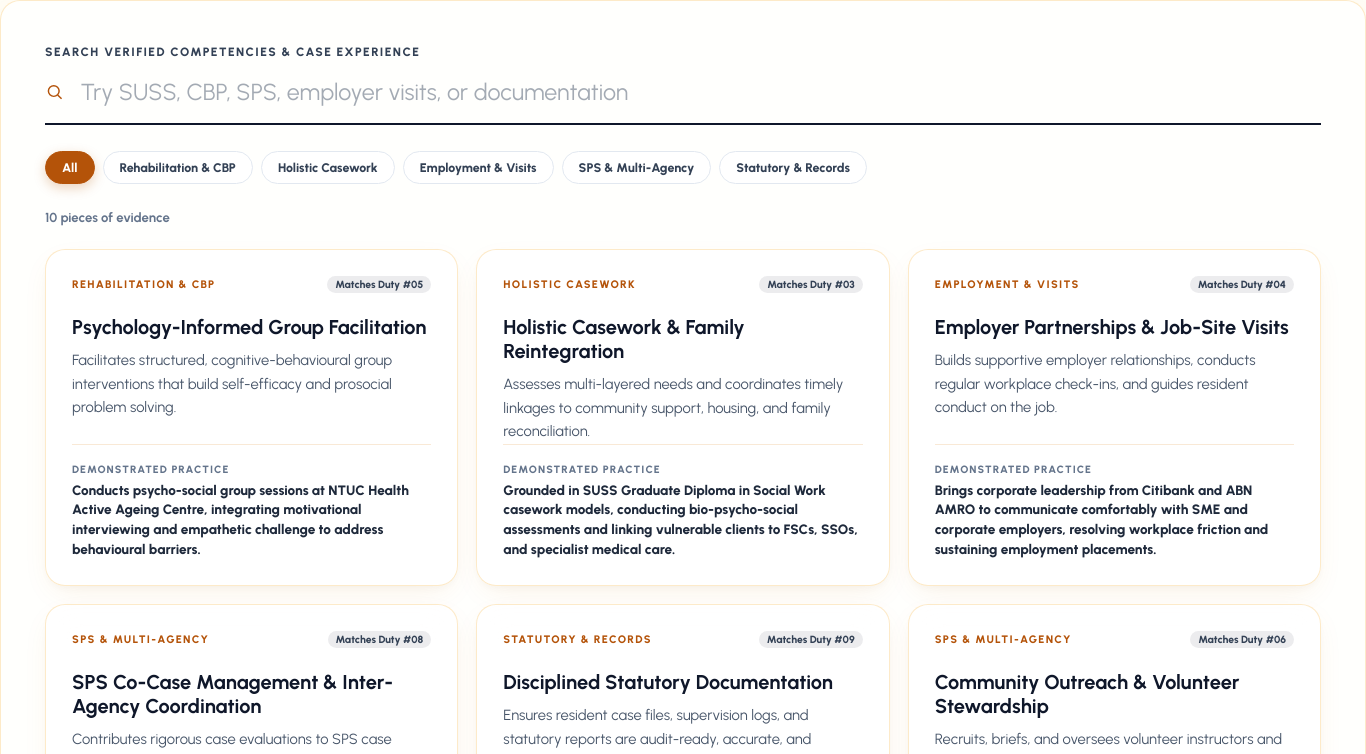
Test: case-management evidence finder › explains an empty result and resets both controls
The image size is (1366, 754).
Click the button "Employment & Visits" at (478, 168), box [403,151,554,184]
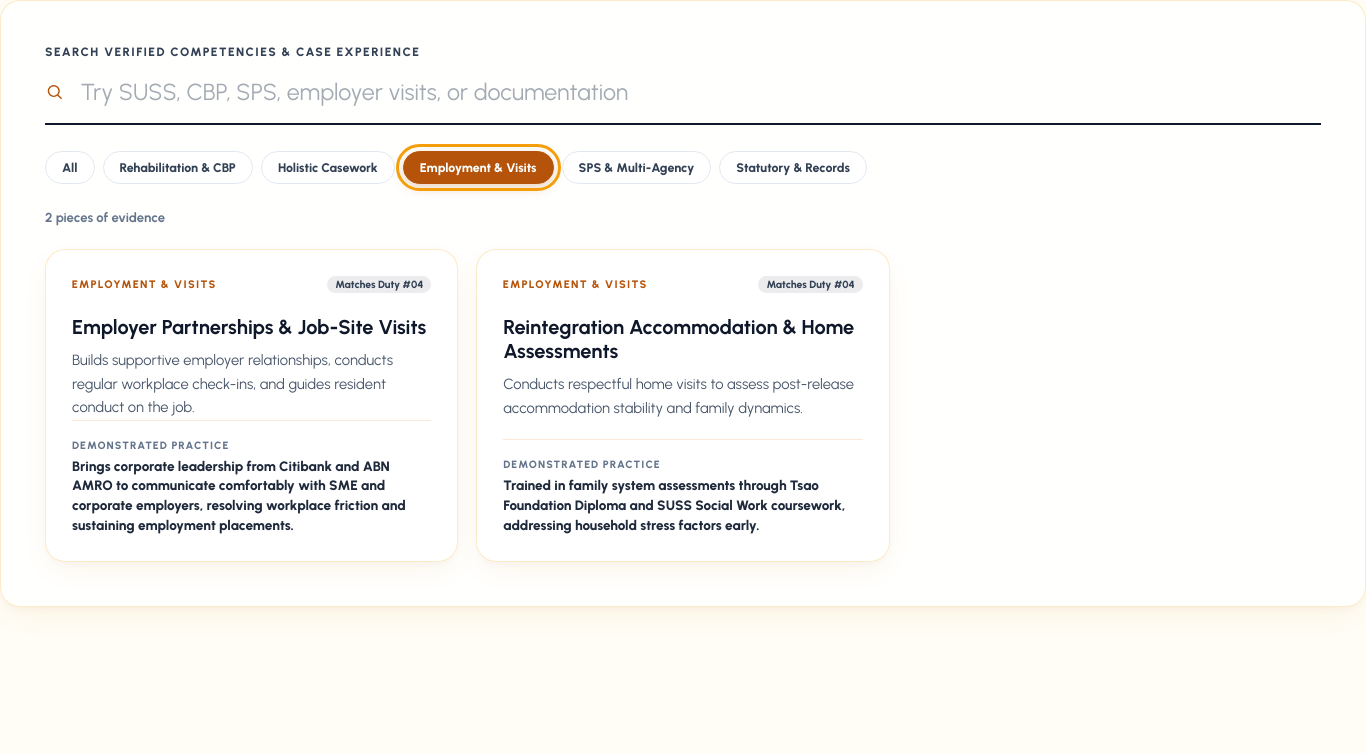
Type "nonexistent medical term" into the search field labelled "Search verified competencies & case experience" at (700, 92), box [78,77,1321,107]
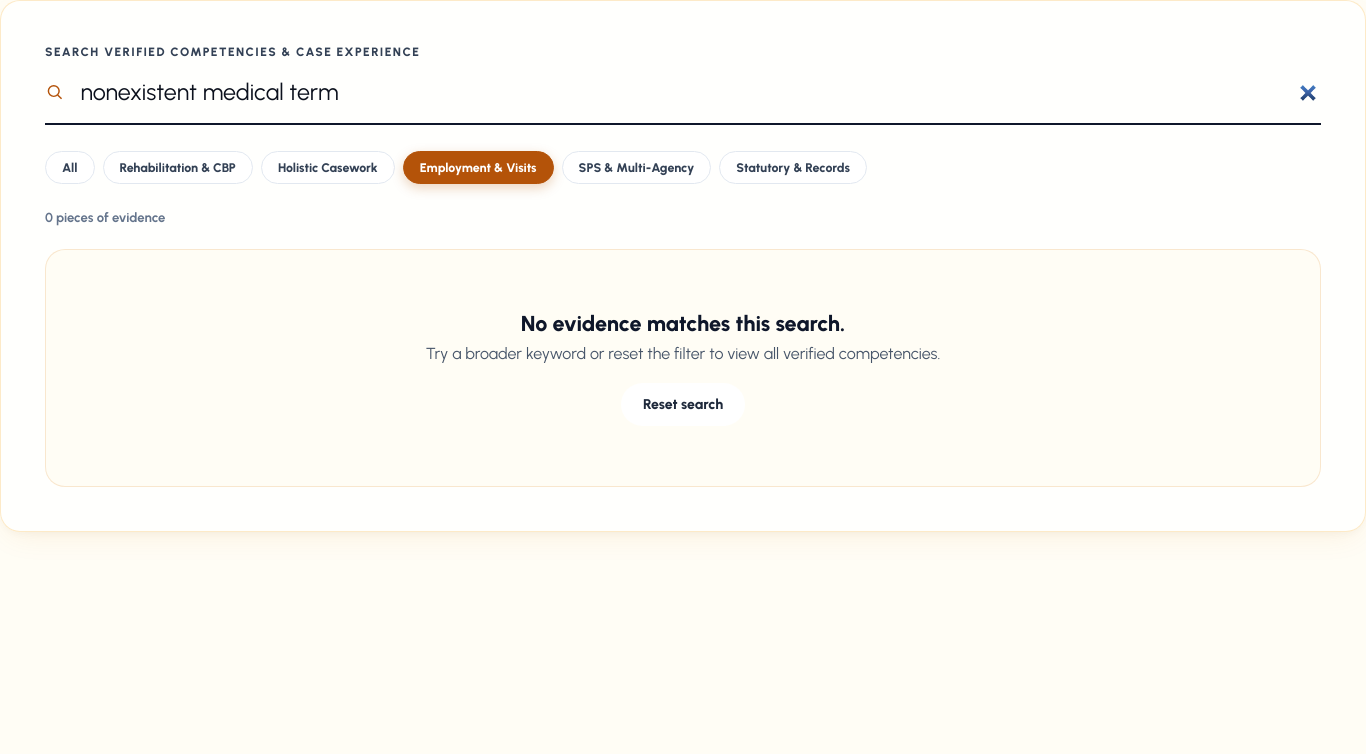
Now the text "No evidence matches this search." is shown, box [521,310,845,336]
Click the button "Reset search" at (683, 404), box [621,383,745,426]
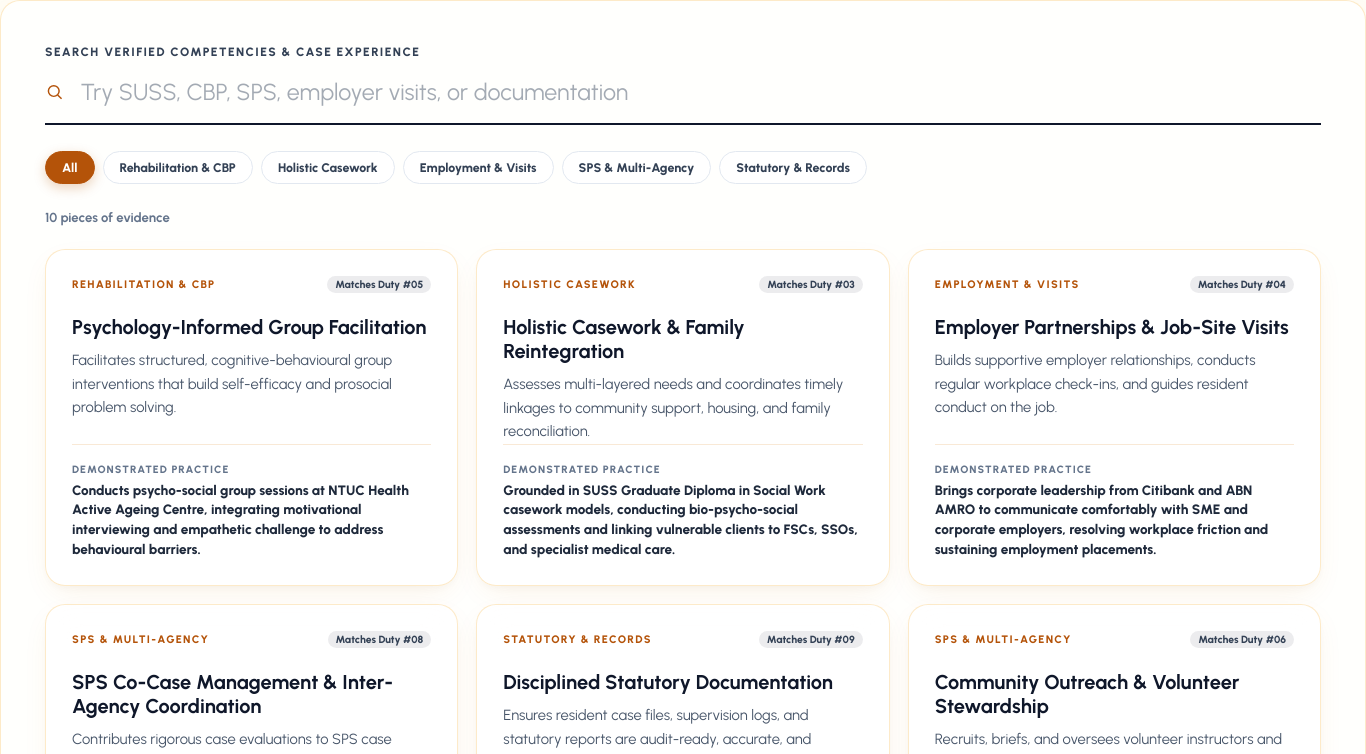
Now the search field labelled "Search verified competencies & case experience" is empty, box [78,77,1321,107]
